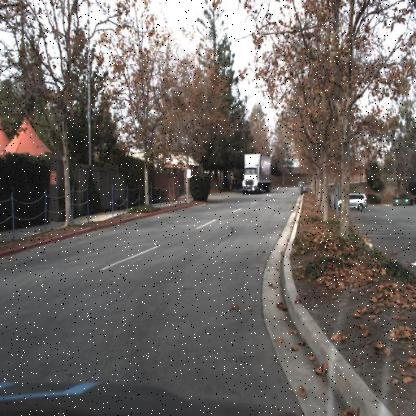car: (336, 190, 368, 214)
truck: (241, 149, 272, 195)
